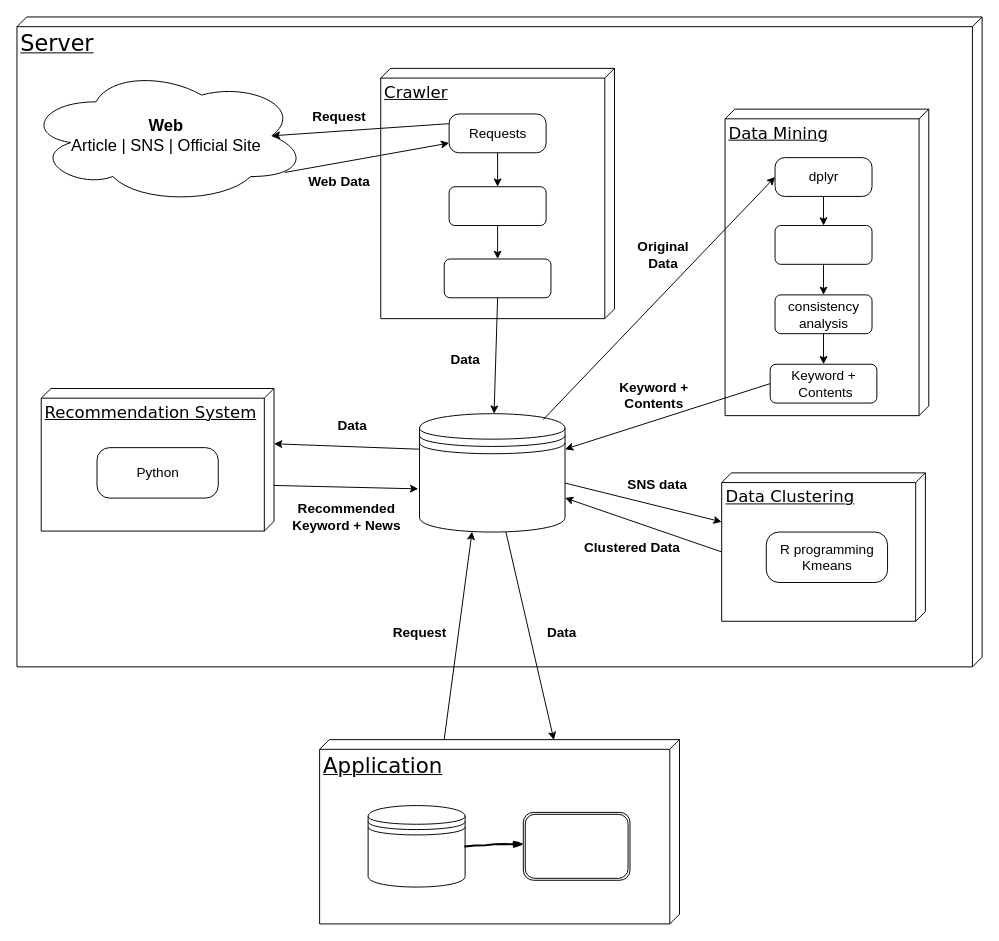
Image size: 999x941. Some labels were removed from this diagram. The centre of each missing label's shape, as x and y in pixels:
Contents: point 576,845
Database: point 492,472
Extracted Content: point 497,278
Local DB # Keyword: point 416,846
Selenium: point 497,206
stringr: point 823,244
